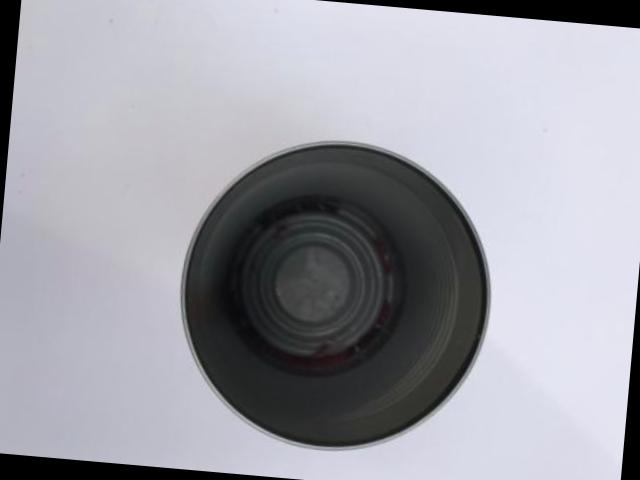metal: (183, 145, 489, 448)
